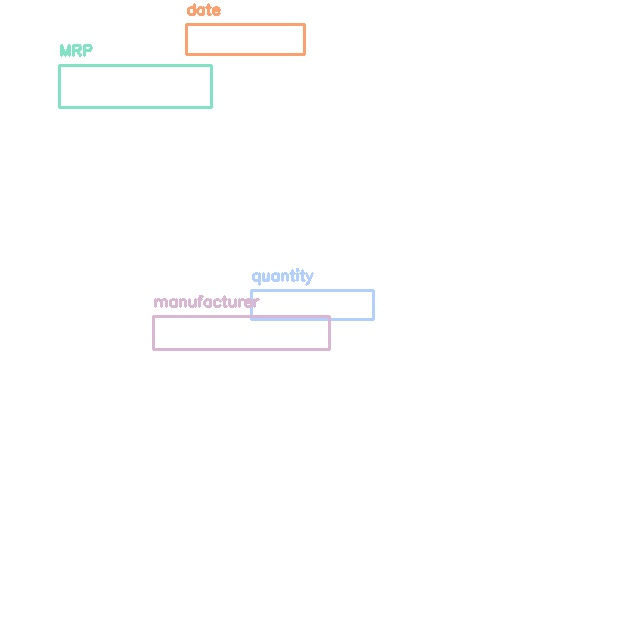MRP: (59, 65, 211, 107)
date: (186, 24, 304, 54)
manufacturer: (153, 316, 329, 349)
quantity: (251, 290, 373, 319)
